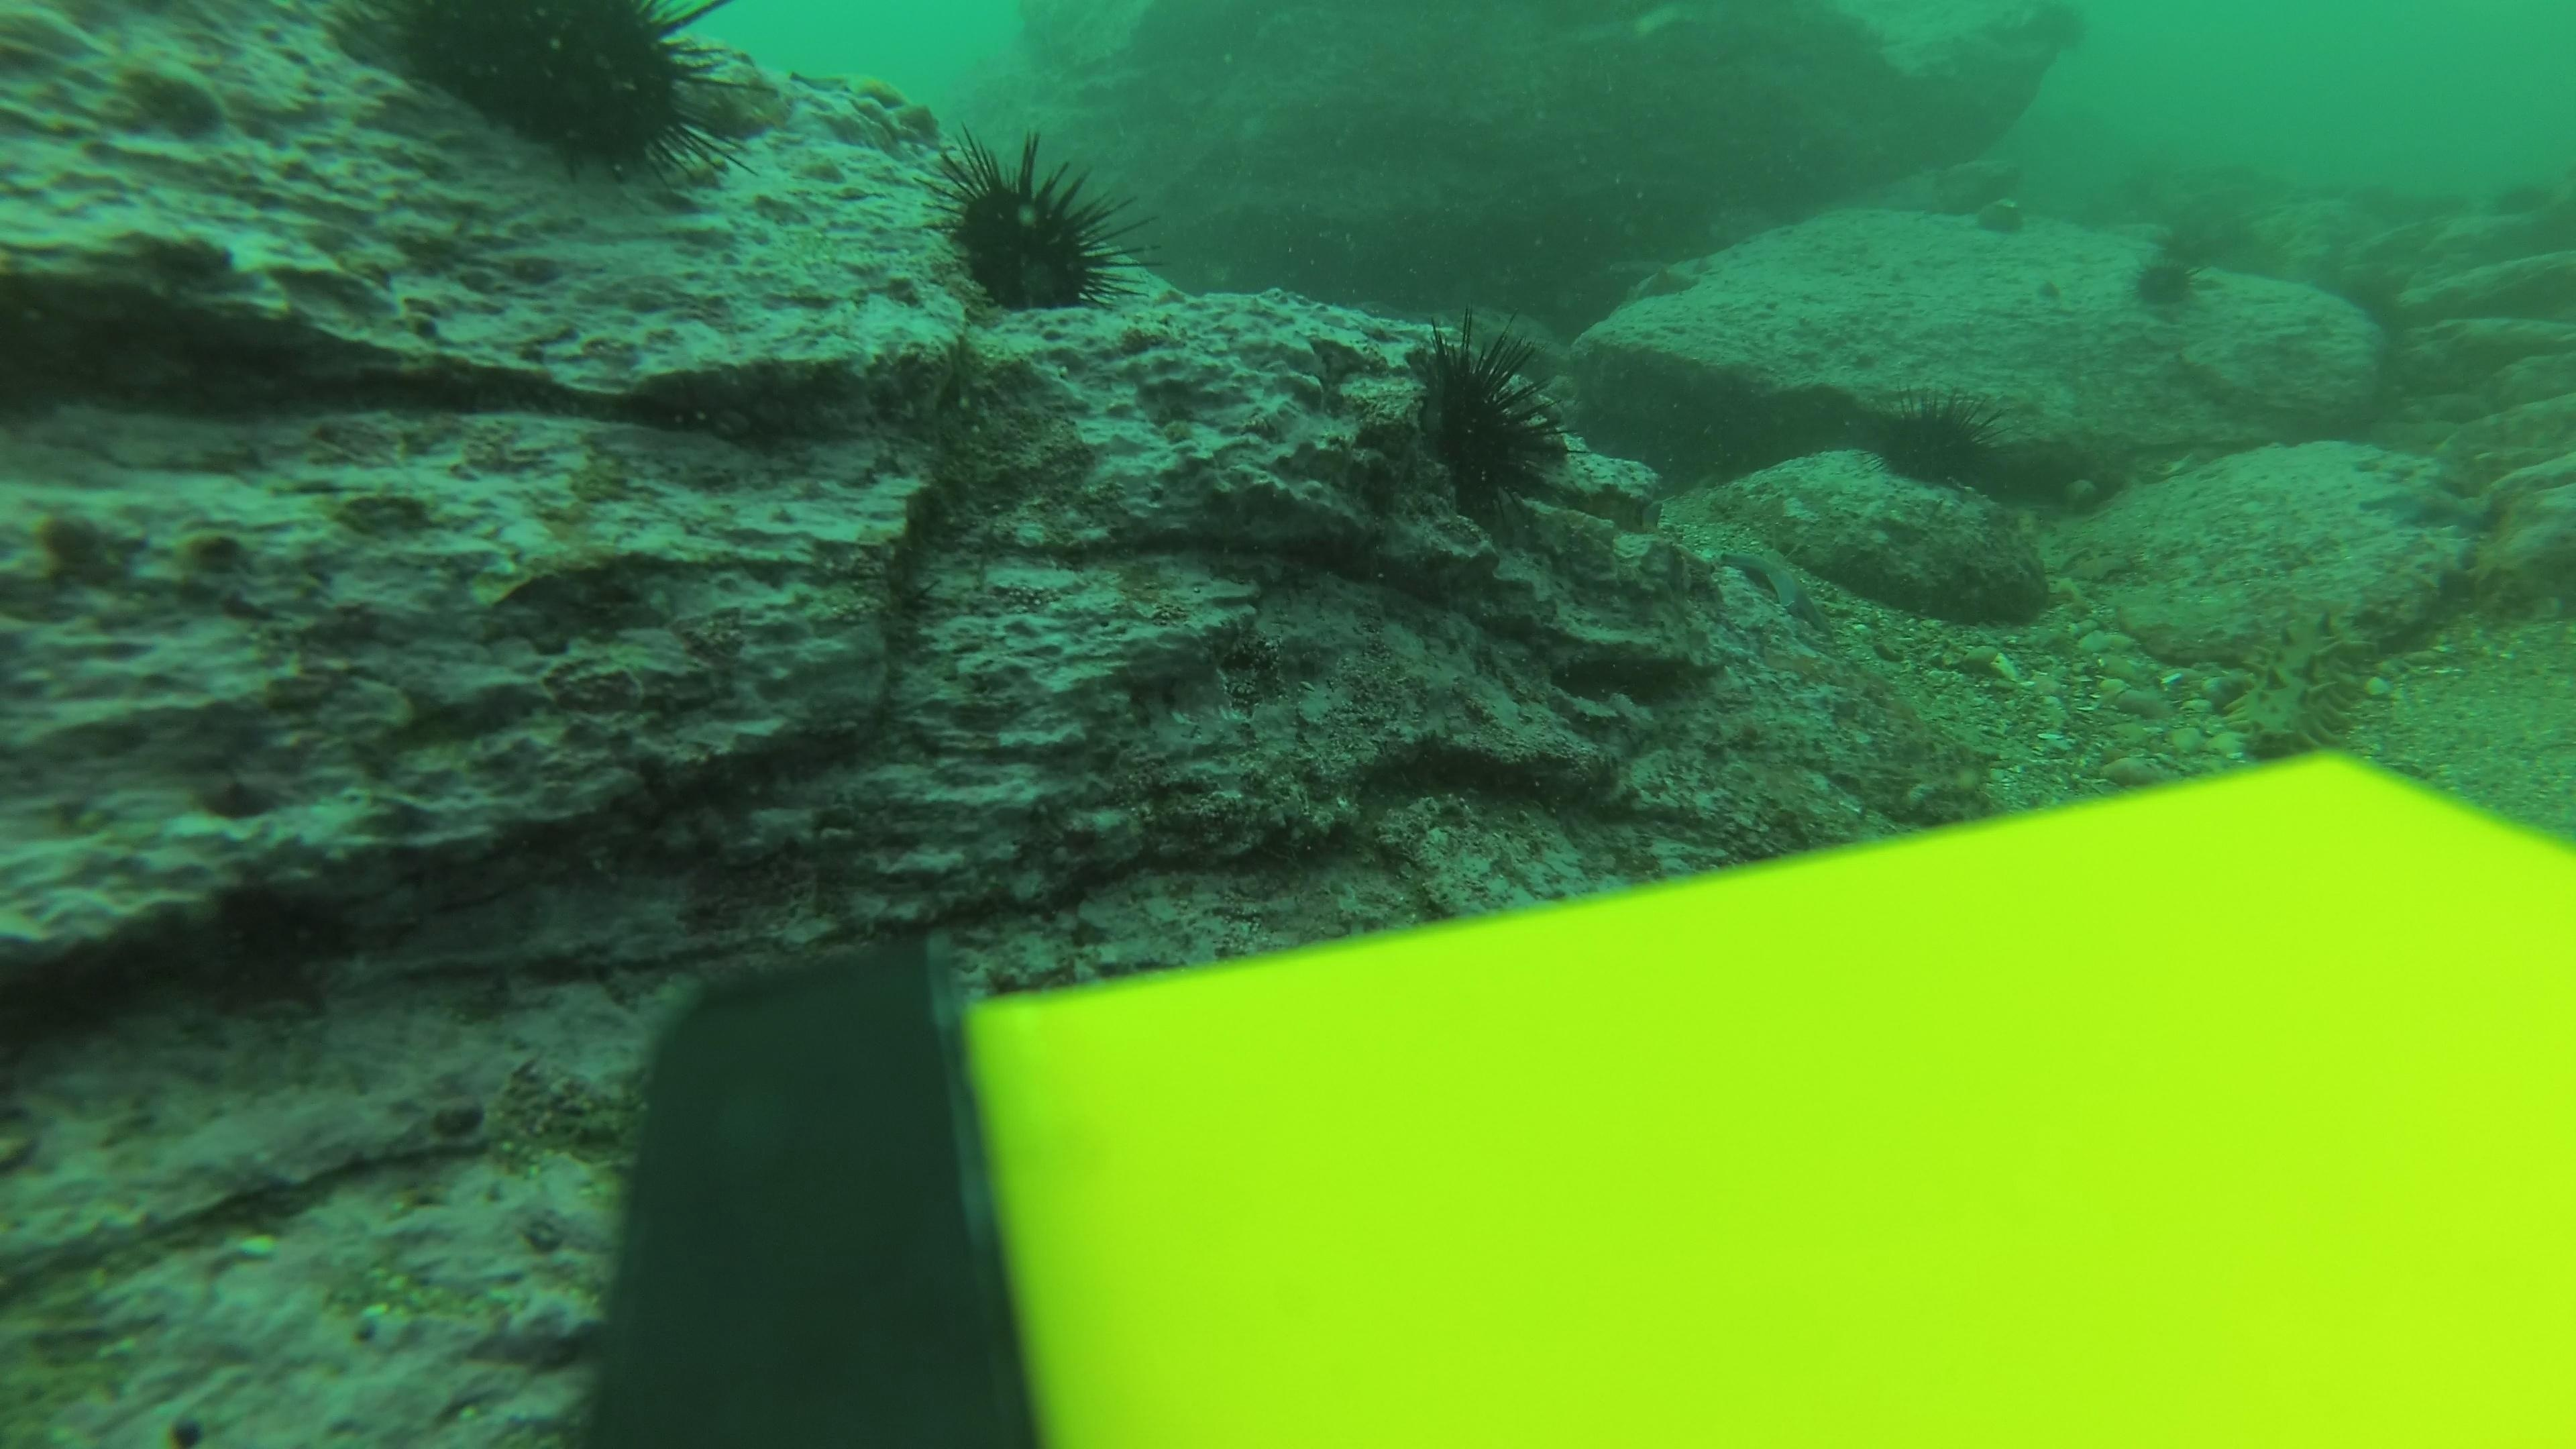echinus: (377, 2, 752, 195), (922, 126, 1141, 320), (1396, 317, 1580, 533), (1863, 391, 2001, 497), (2121, 235, 2215, 320)
holothurian: (2220, 594, 2383, 770)
starfish: (1711, 531, 1844, 633), (778, 58, 943, 140), (2351, 469, 2496, 538), (1622, 253, 1709, 306)
